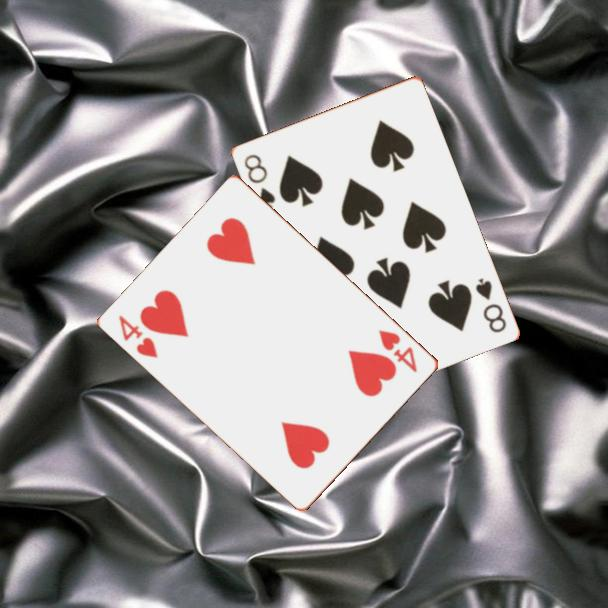h04: (116, 311, 162, 361), (375, 326, 420, 376)
s08: (240, 151, 278, 212), (472, 274, 509, 335)
